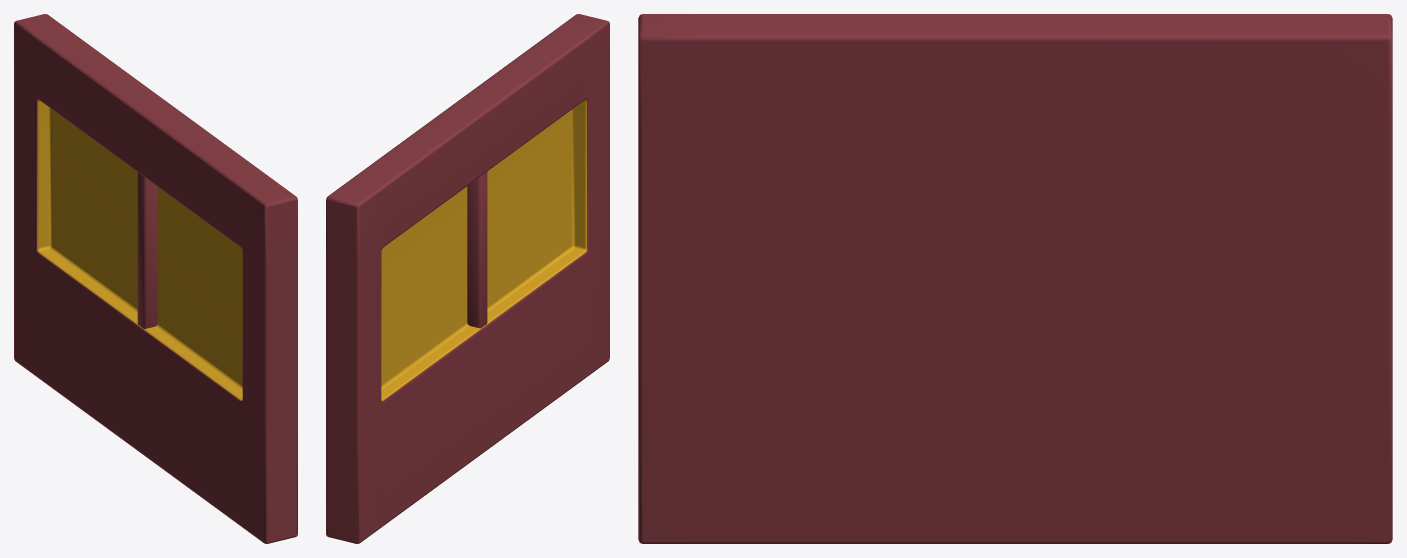
The model's file is FM_H_Doll_SH_Side_Wall_001.fbx.
3 renders of one model, left to right at view 1: azimuth 30°, elevation 25°; view 2: azimuth 150°, elevation 25°; view 3: azimuth 270°, elevation 25°, orthographic. The views are drawn at different scales.
Parts seen in each view (by area): view 1: FM_H_Doll_SH_Side_Wall_001; view 2: FM_H_Doll_SH_Side_Wall_001; view 3: FM_H_Doll_SH_Side_Wall_001.
Boxes of the visible parts, x1=… form: FM_H_Doll_SH_Side_Wall_001: x1=14, y1=14, x2=297, y2=543; FM_H_Doll_SH_Side_Wall_001: x1=326, y1=14, x2=609, y2=543; FM_H_Doll_SH_Side_Wall_001: x1=638, y1=14, x2=1392, y2=543.
Size of the model in its own units: 0.4667 by 4.48 by 6.02.
